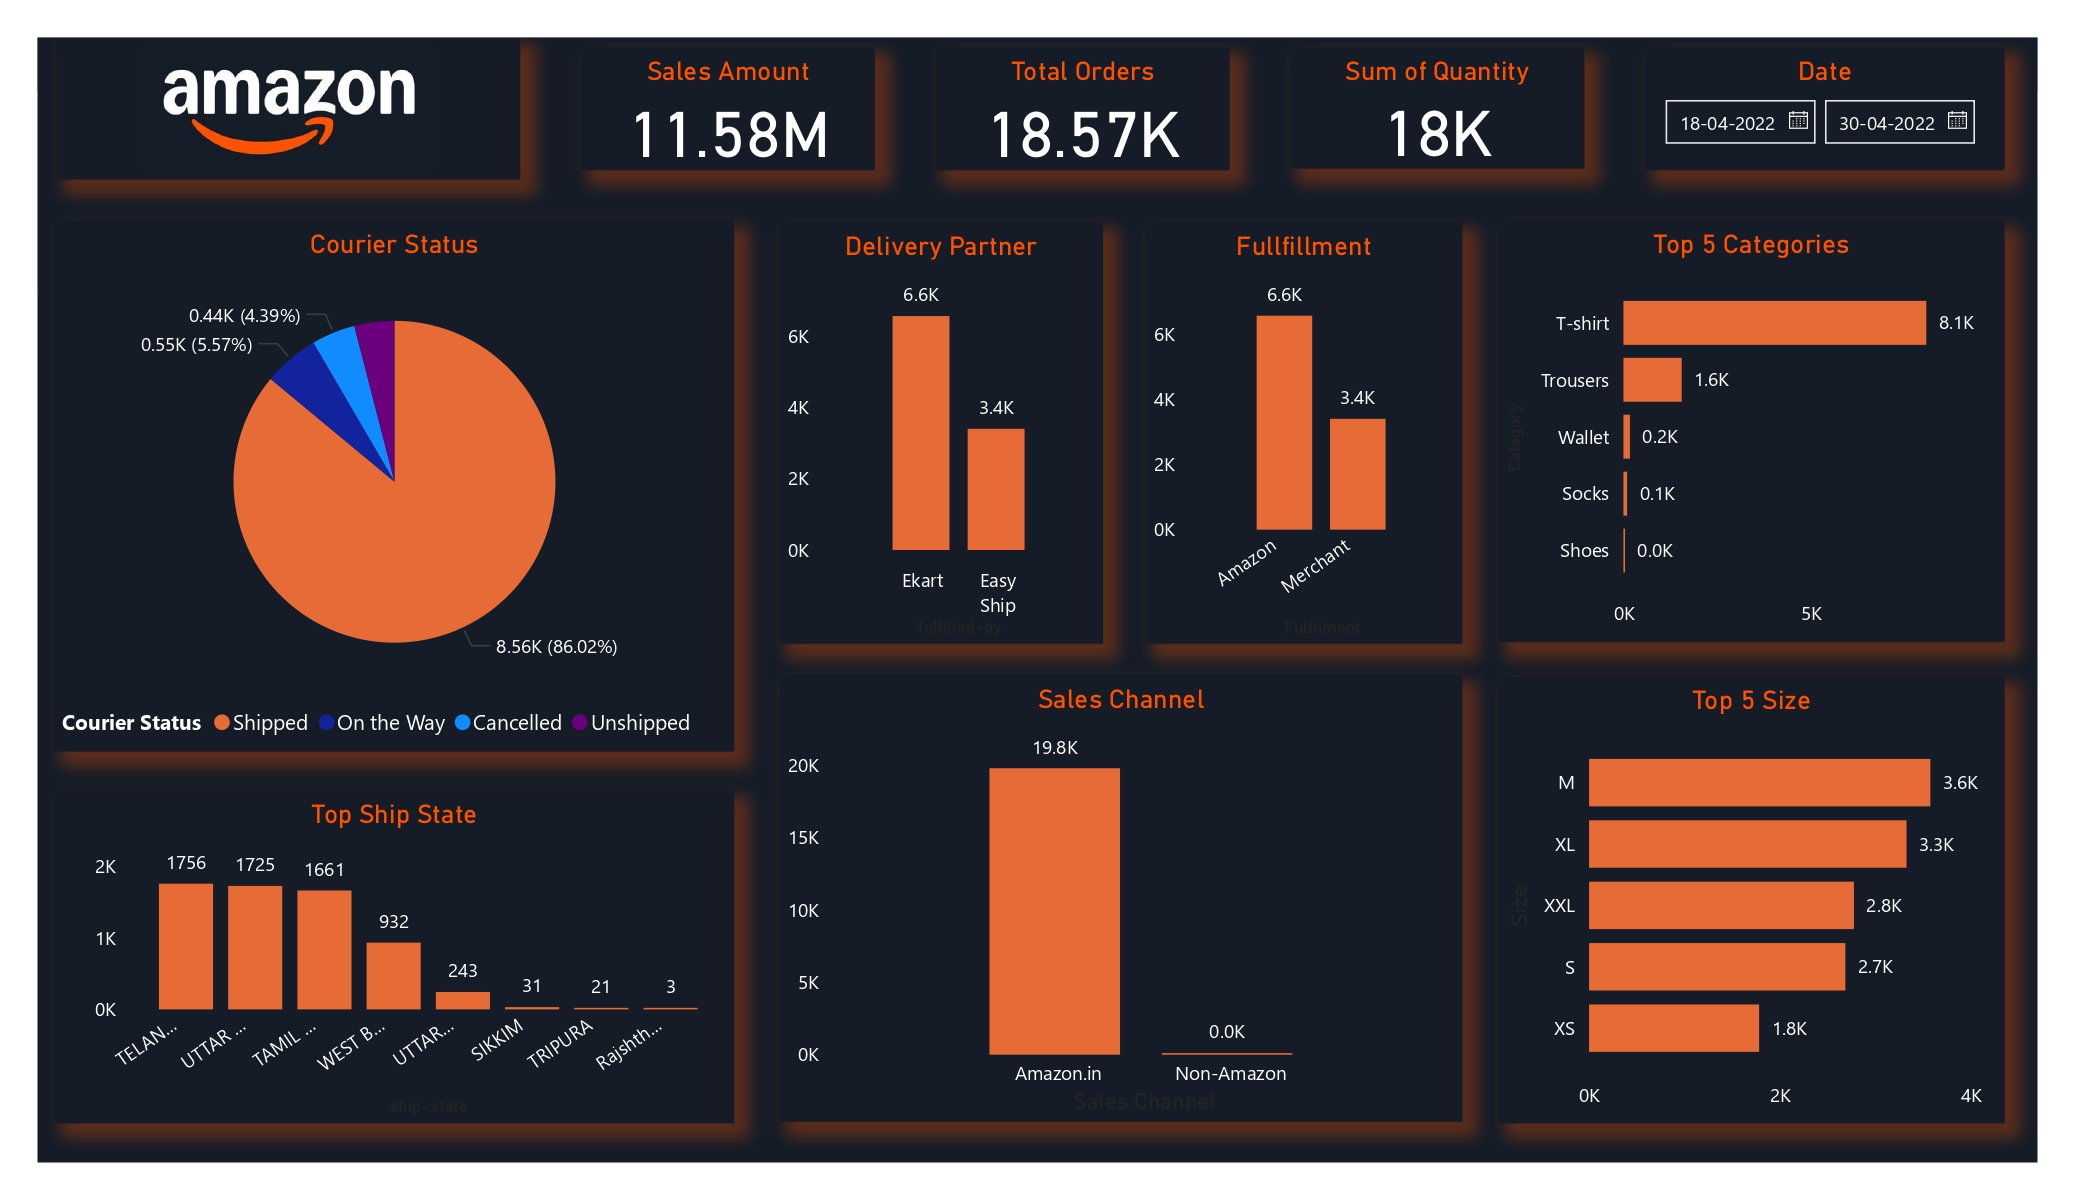

The page's visual inventory and layout, read from the dashboard file:
{"tool":"powerbi","page":{"name":"Page 1","canvas":[1280,720],"ordinal":0},"visuals":[{"type":"card","title":"Sales Amount","fields":{"Values":["Sum(Amazon Sale Report.Amount)"]},"box":[347.8,5.6,188.5,79.4],"z":0},{"type":"image","box":[11.8,0,297.3,90.7],"z":1000},{"type":"slicer","title":"Date","fields":{"Values":["Amazon Sale Report.Date"]},"box":[1029,5.6,229.6,79.4],"z":2000},{"type":"barChart","title":"Top 5 Categories","fields":{"Category":["Amazon Sale Report.Category"],"Y":["CountNonNull(Amazon Sale Report.Category)"]},"box":[934.5,117,324.8,269.8],"z":3000},{"type":"pieChart","title":"Courier Status","fields":{"Category":["Amazon Sale Report.Courier Status"],"Y":["CountNonNull(Amazon Sale Report.Courier Status)"]},"box":[11,117,434.9,340],"z":4000},{"type":"columnChart","title":"Fullfillment","fields":{"Category":["Amazon Sale Report.Fulfilment"],"Y":["CountNonNull(Amazon Sale Report.Fulfilment)"]},"box":[708.9,117.6,203.3,270.4],"z":5000},{"type":"columnChart","title":"Delivery Partner","fields":{"Category":["Amazon Sale Report.fulfilled-by"],"Y":["CountNonNull(Amazon Sale Report.fulfilled-by)"]},"box":[475.4,117.6,206.6,270.4],"z":6000},{"type":"card","title":"Total Orders","fields":{"Values":["Count(Amazon Sale Report.Order ID)"]},"box":[575,5.8,188.1,79],"z":7000},{"type":"barChart","title":"Top 5 Size","fields":{"Category":["Amazon Sale Report.Size"],"Y":["CountNonNull(Amazon Sale Report.Size)"]},"box":[934.5,408.8,324.8,286.3],"z":7001},{"type":"clusteredColumnChart","title":"Top Ship State","fields":{"Category":["Amazon Sale Report.ship-state"],"Y":["CountNonNull(Amazon Sale Report.ship-state)"]},"box":[11,481.7,434.9,213.3],"z":7002},{"type":"card","title":"Sum of Quantity","fields":{"Values":["Sum(Amazon Sale Report.Qty)"]},"box":[801.8,6.3,188.5,78],"z":7003},{"type":"columnChart","title":"Sales Channel","fields":{"Category":["Amazon Sale Report.Sales Channel"],"Y":["CountNonNull(Amazon Sale Report.Sales Channel)"]},"box":[475.4,408.2,436.7,285.6],"z":7004}]}

Visuals, with their boxes in screenshot pixels (x1, y1, x2, y2):
"Sales Amount" card: [581, 46, 875, 170]
image: [56, 38, 520, 179]
"Date" slicer: [1645, 46, 2004, 170]
"Top 5 Categories" barChart: [1498, 220, 2005, 642]
"Courier Status" pieChart: [55, 220, 734, 752]
"Fullfillment" columnChart: [1145, 221, 1463, 644]
"Delivery Partner" columnChart: [780, 221, 1103, 644]
"Total Orders" card: [936, 47, 1230, 170]
"Top 5 Size" barChart: [1498, 676, 2005, 1124]
"Top Ship State" clusteredColumnChart: [55, 790, 734, 1123]
"Sum of Quantity" card: [1290, 47, 1585, 169]
"Sales Channel" columnChart: [780, 675, 1463, 1122]
